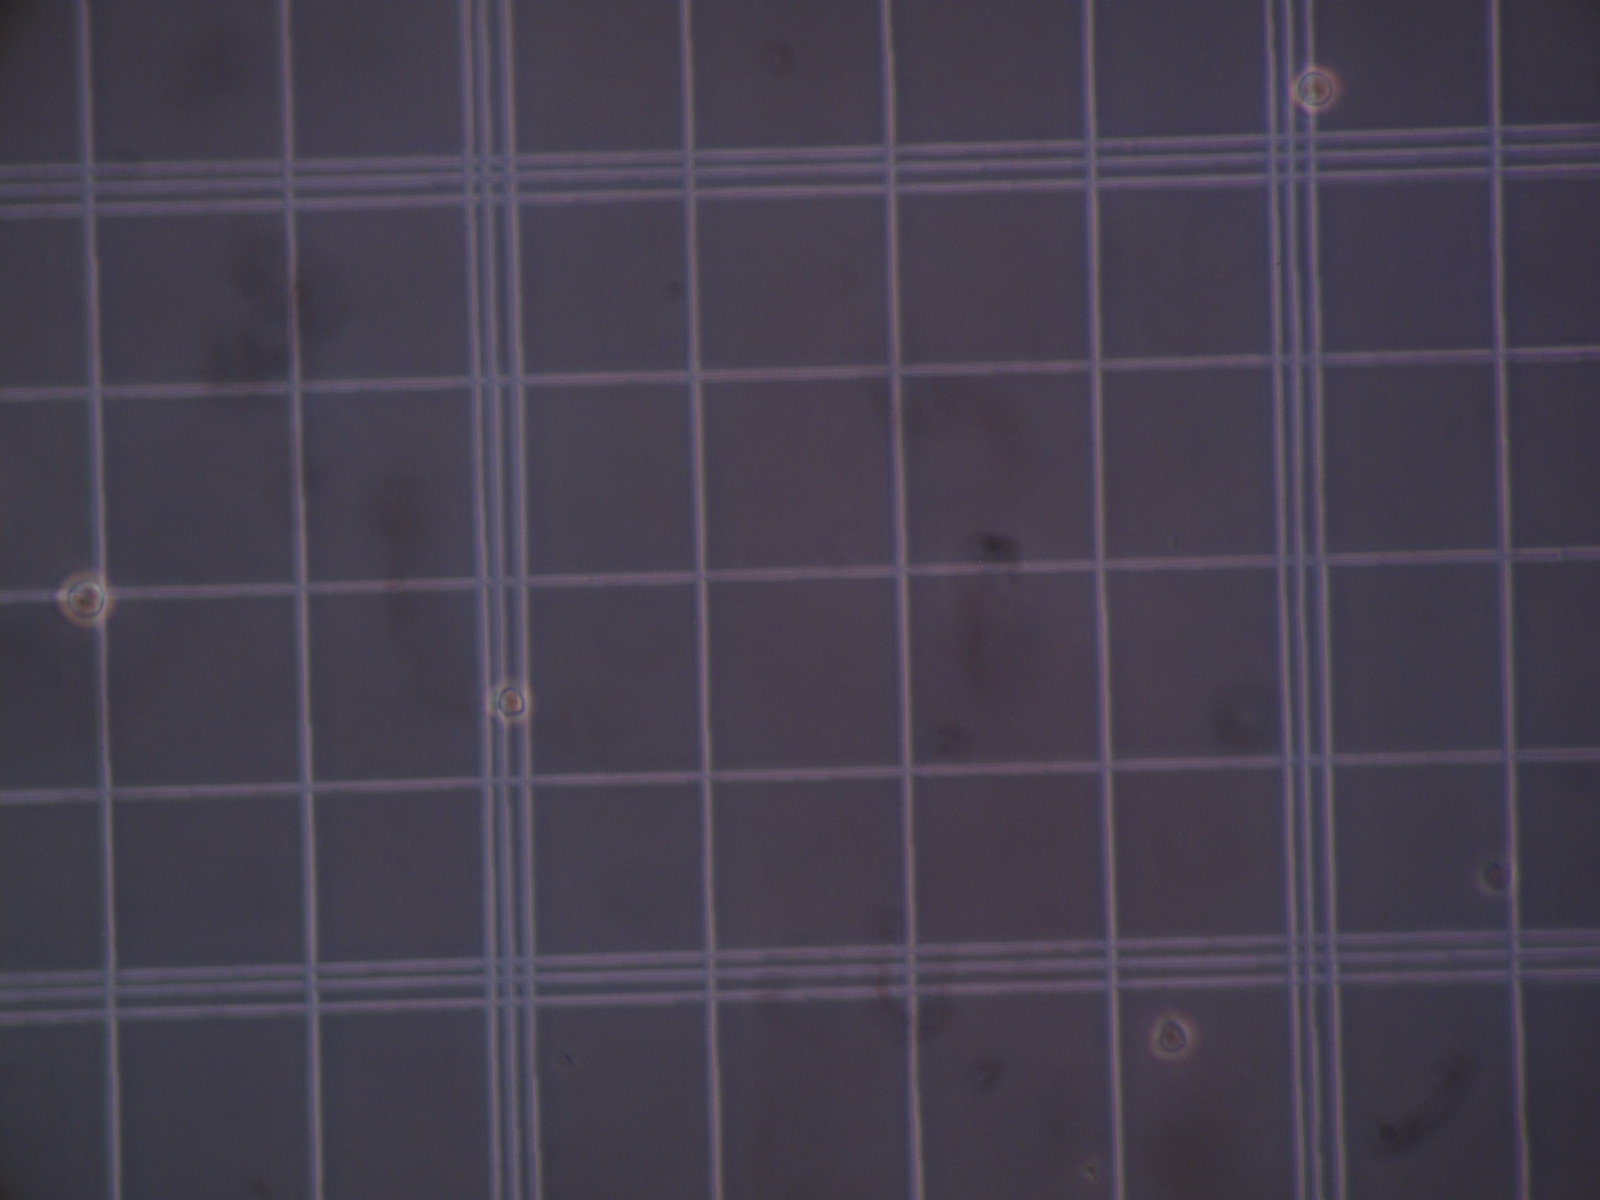hemo: (57, 570, 112, 626), (1294, 66, 1339, 112), (1150, 1012, 1194, 1060), (1474, 852, 1519, 897), (491, 679, 532, 724)
